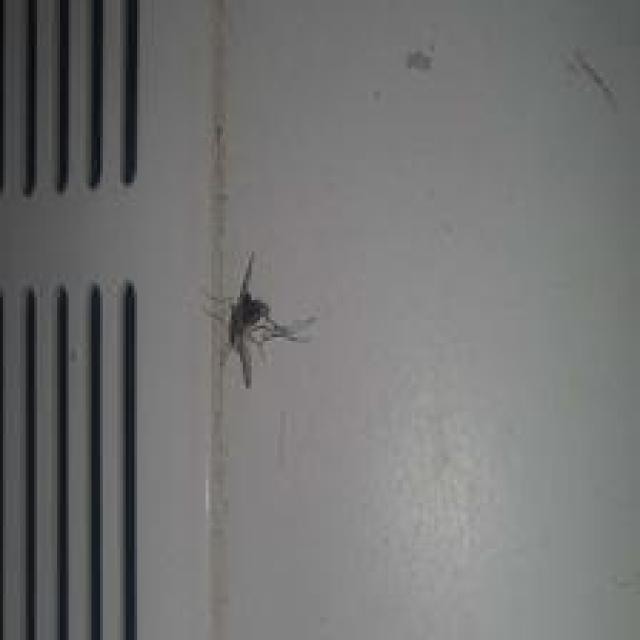Culex: (204, 250, 319, 390)
